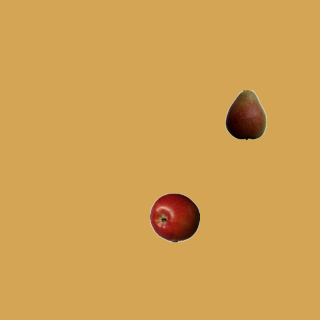Apple Braeburn: (149, 192, 199, 242)
Pear Forelle: (220, 89, 270, 139)
